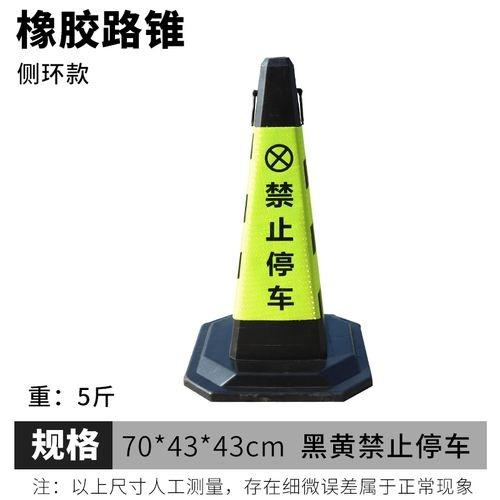cone_barrel: (191, 58, 360, 393)
